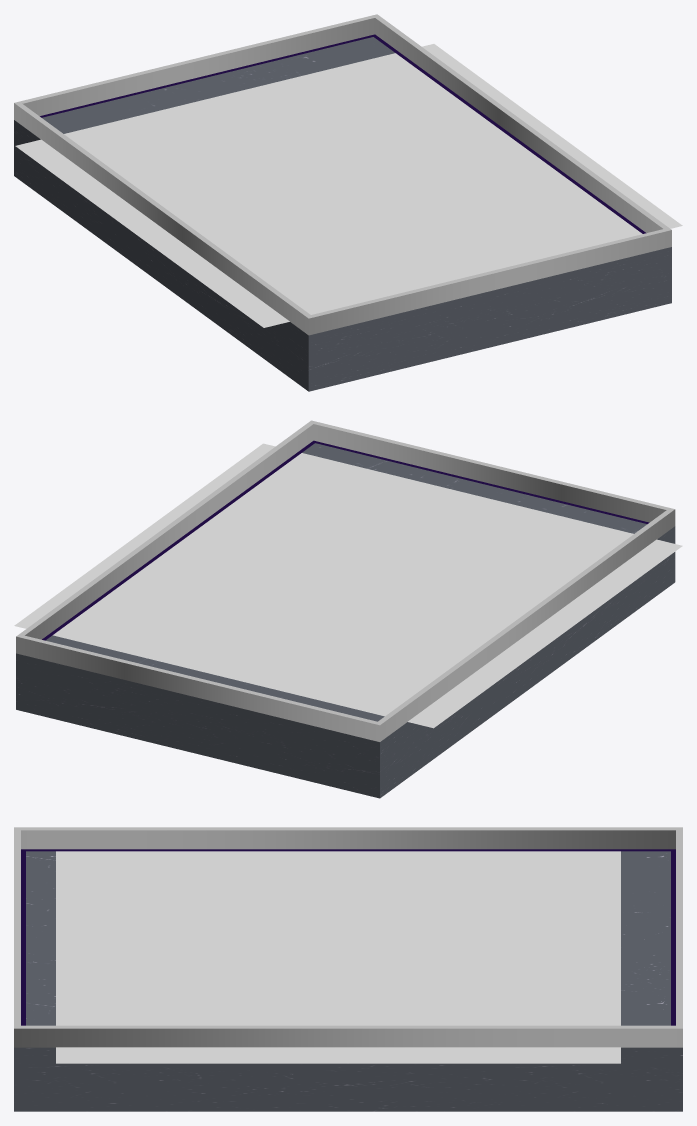
The model's file is Duel_Stage 19.fbx.
3 views of the same model, one above another, from view 1: azimuth 30°, elevation 25°; view 2: azimuth 150°, elevation 25°; view 3: azimuth 270°, elevation 25° (orthographic). The views are drawn at different scales.
Parts seen in each view (by area): view 1: Plane.039, NY_Platform_Cube.003, NY_Platform_Cube.004, NY_Platform_Cube.005; view 2: Plane.039, NY_Platform_Cube.003, NY_Platform_Cube.004, NY_Platform_Cube.005; view 3: Plane.039, NY_Platform_Cube.003, NY_Platform_Cube.004, NY_Platform_Cube.005.
Part boxes in pixels (bbox=[...]): Plane.039: bbox=[15, 44, 682, 327]; NY_Platform_Cube.003: bbox=[14, 37, 671, 391]; NY_Platform_Cube.004: bbox=[14, 14, 671, 335]; NY_Platform_Cube.005: bbox=[40, 34, 646, 233]; Plane.039: bbox=[14, 443, 682, 728]; NY_Platform_Cube.003: bbox=[16, 443, 675, 798]; NY_Platform_Cube.004: bbox=[16, 420, 675, 741]; NY_Platform_Cube.005: bbox=[42, 440, 649, 640]; Plane.039: bbox=[56, 851, 620, 1063]; NY_Platform_Cube.003: bbox=[14, 851, 682, 1111]; NY_Platform_Cube.004: bbox=[14, 827, 682, 1047]; NY_Platform_Cube.005: bbox=[21, 849, 675, 1025].
Bounding box in the file's own units: 3899 × 650 × 4750.
